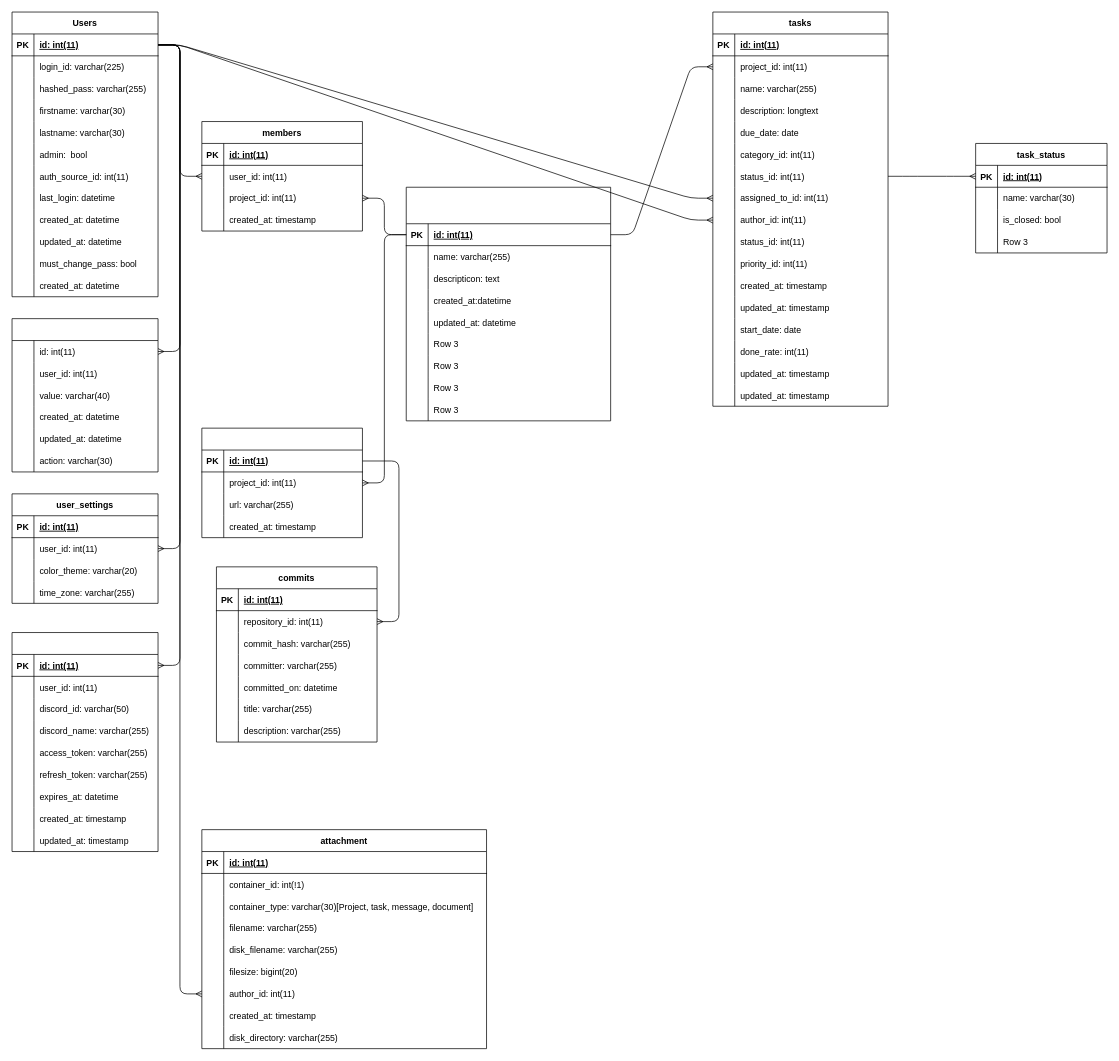
This 1119x1061 diagram has some shape labels left out. Each missing label, with the box of its shape:
discord_auth: (11, 632, 158, 852)
Projects: (406, 187, 611, 421)
repositories: (201, 427, 362, 538)
Tokens: (11, 318, 158, 472)
